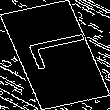L_E: (14, 33, 96, 77)
